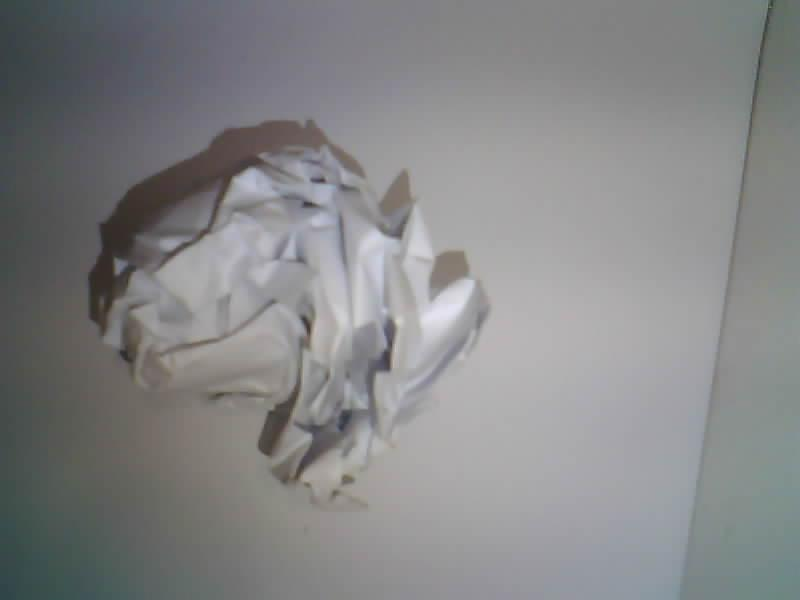biodegradable: (98, 145, 488, 504)
